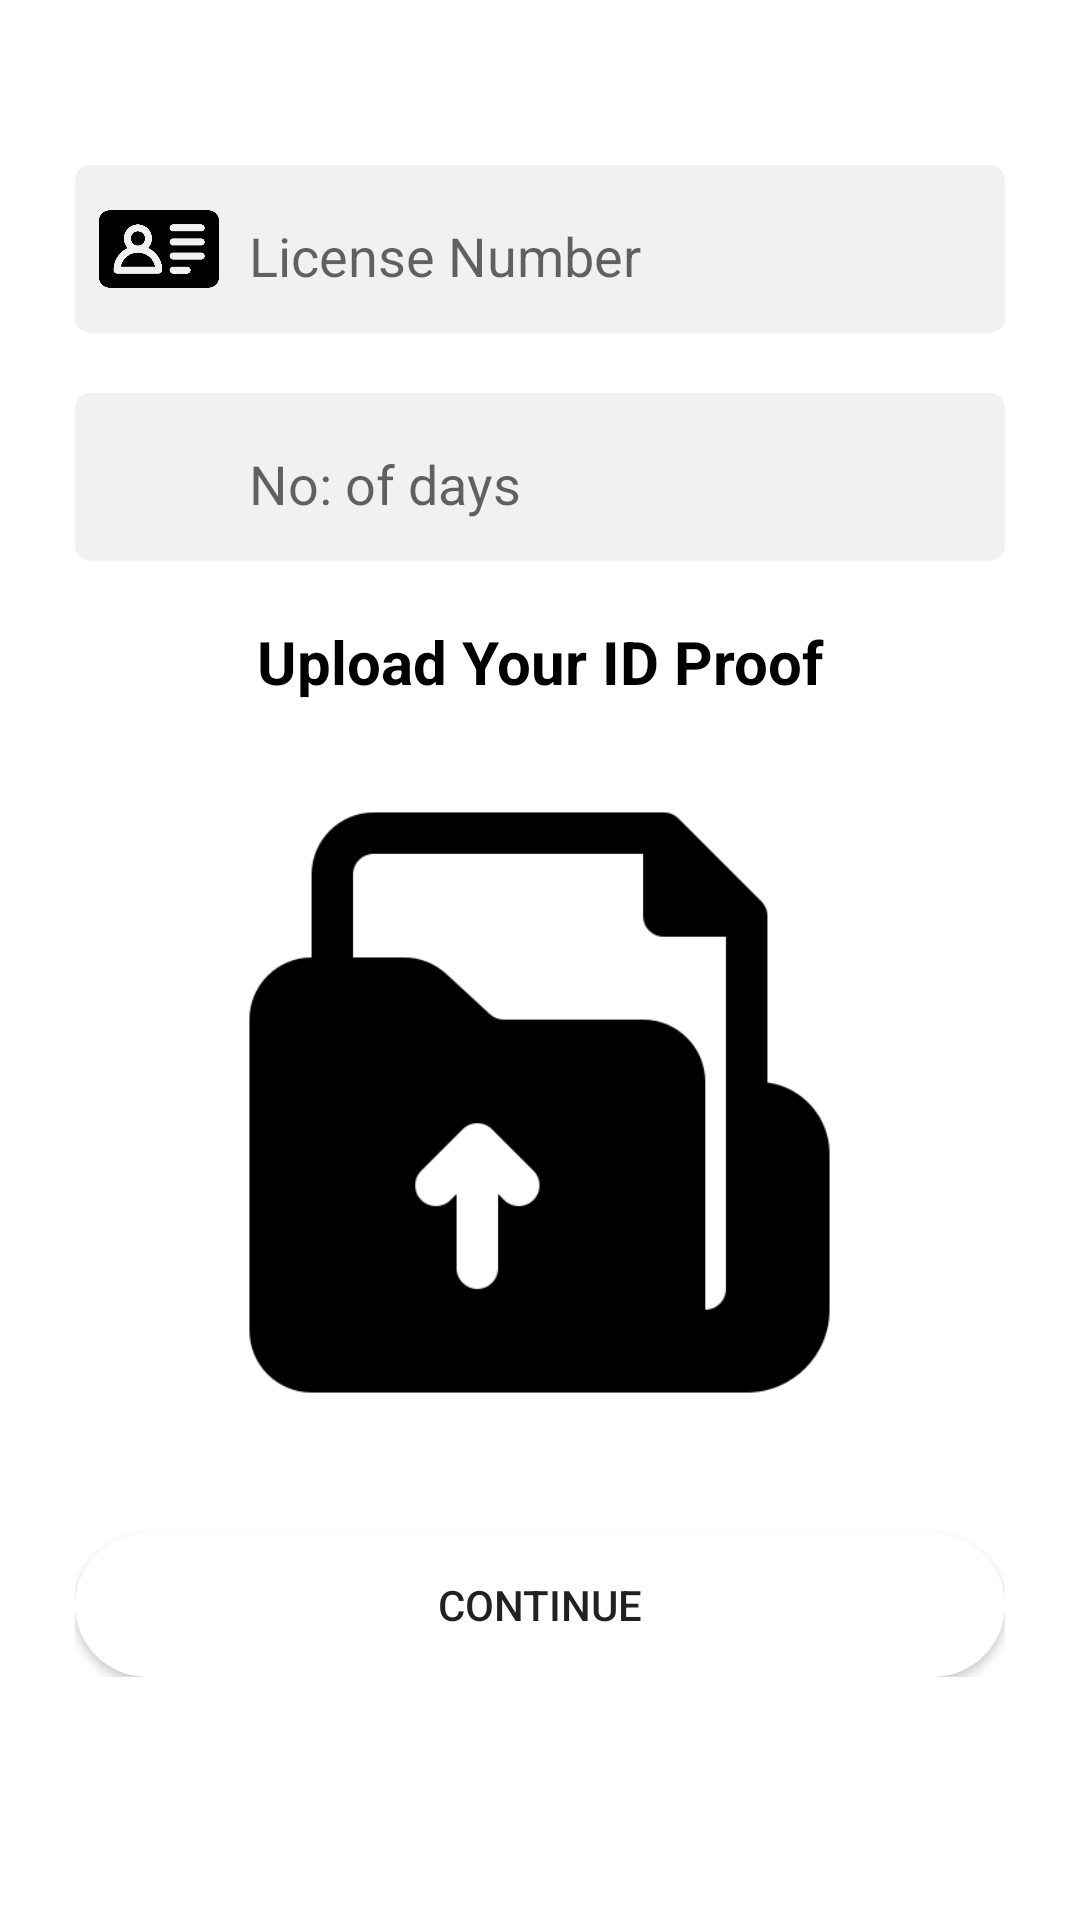

Icons on this 1080px×1920px Android screen, each with the point to tap as point (x, y):
driving license: point (159, 249)
